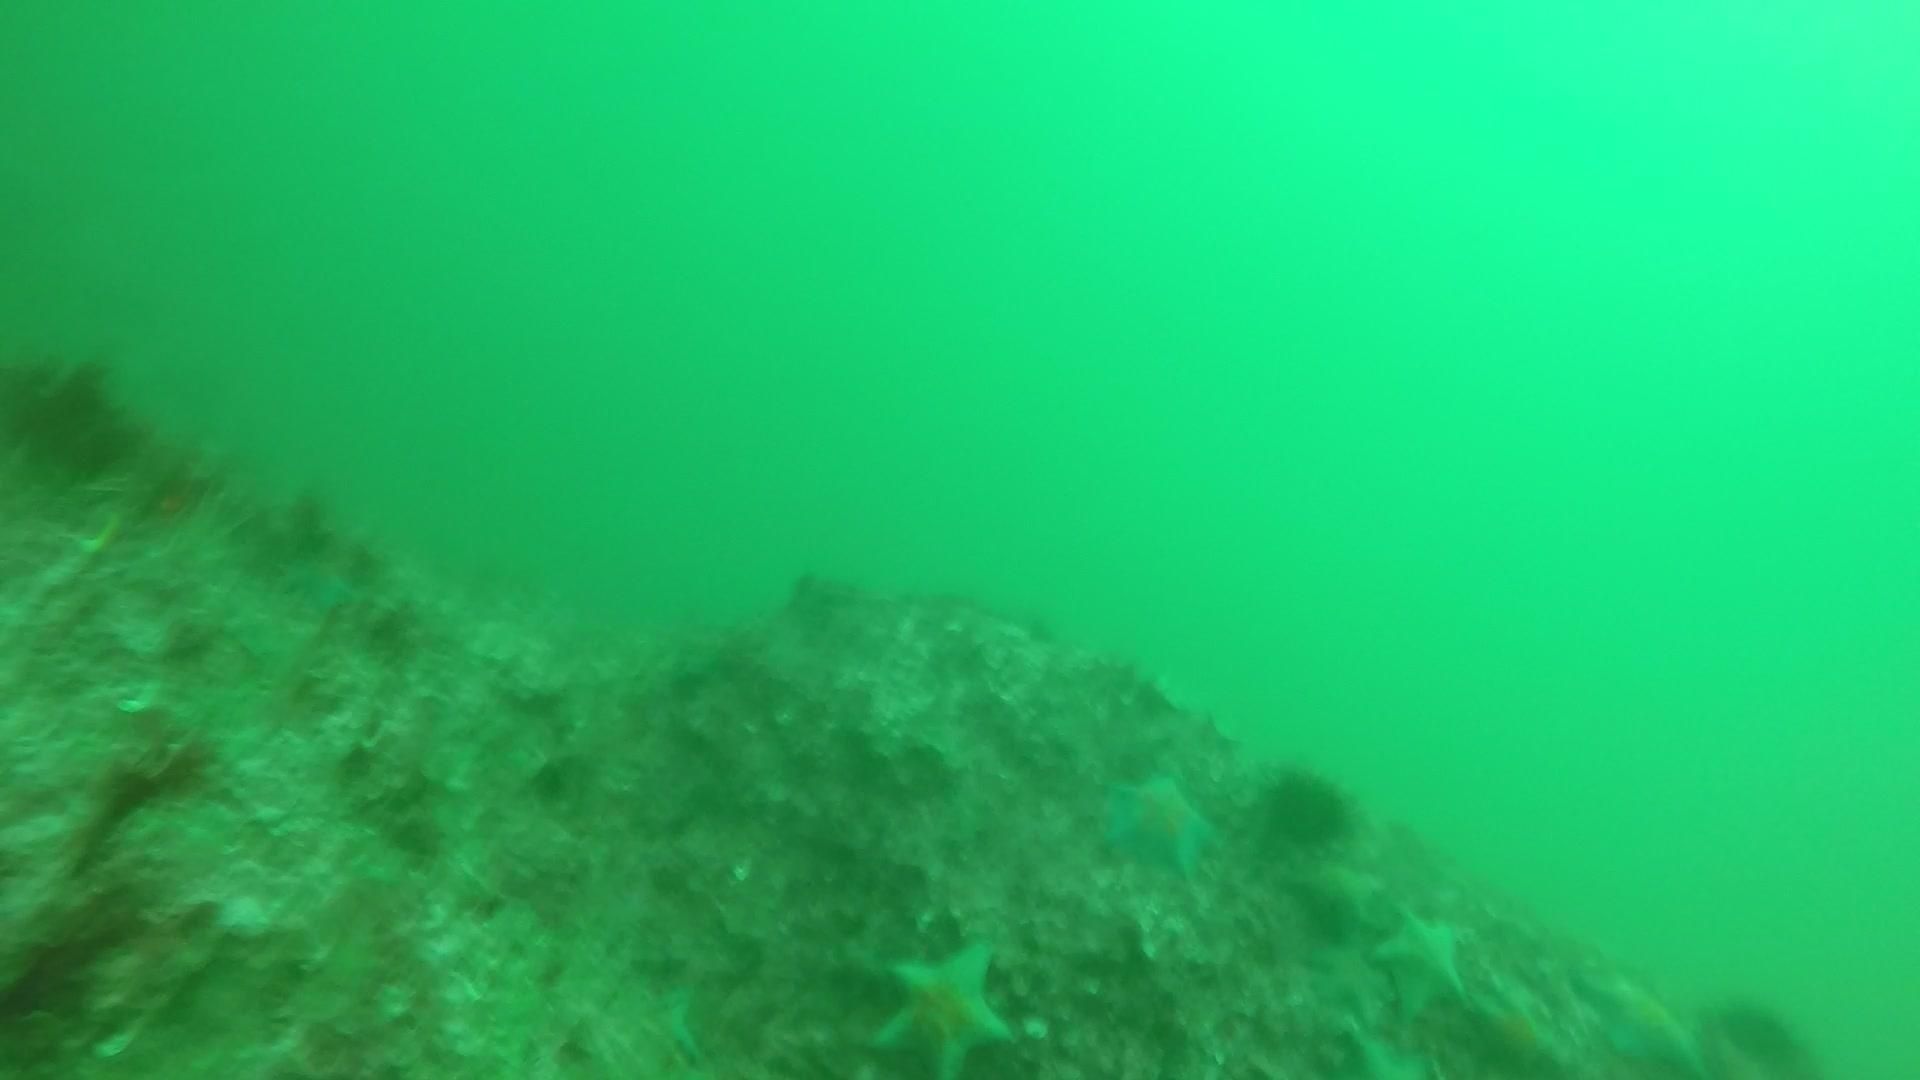echinus: (1255, 760, 1360, 853), (1708, 992, 1815, 1072)
starfish: (861, 932, 1021, 1079), (1093, 764, 1222, 881), (1577, 961, 1706, 1073), (1364, 899, 1481, 1022), (1461, 984, 1571, 1076), (273, 547, 371, 615)
